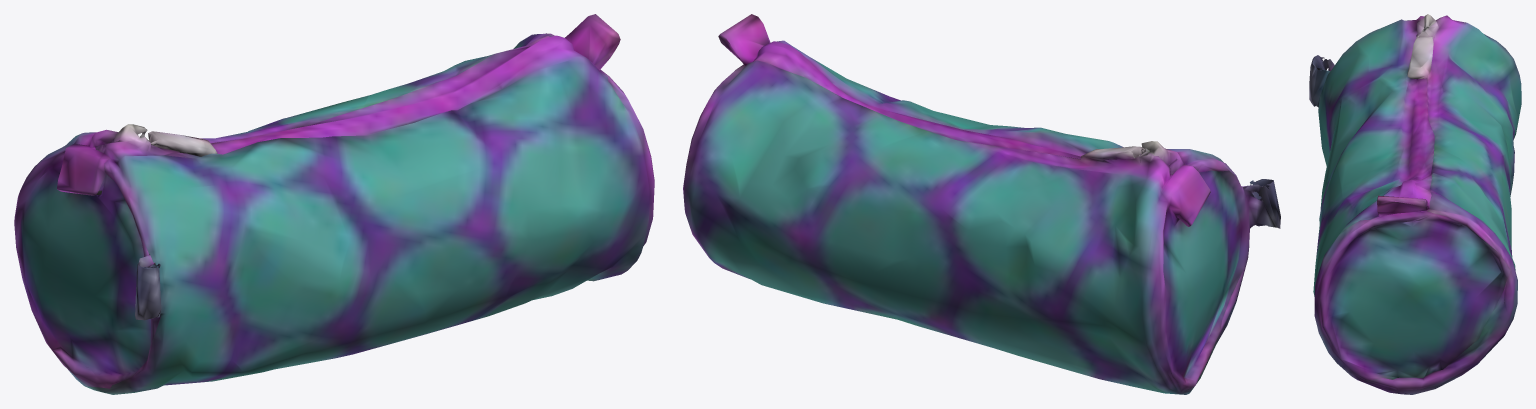
The model's file is Big_Dot_Aqua_Pencil_Case-medium.glb.
3 renders of one model, left to right at view 1: azimuth 30°, elevation 25°; view 2: azimuth 150°, elevation 25°; view 3: azimuth 270°, elevation 25°, orthographic. The views are drawn at different scales.
Visible parts, largest first — view 1: Big_Dot_Aqua_Pencil_Case; view 2: Big_Dot_Aqua_Pencil_Case; view 3: Big_Dot_Aqua_Pencil_Case.
Part boxes in pixels (box(x1,y1,x2,y2)): Big_Dot_Aqua_Pencil_Case: box(14, 14, 654, 394); Big_Dot_Aqua_Pencil_Case: box(683, 14, 1280, 394); Big_Dot_Aqua_Pencil_Case: box(1309, 14, 1521, 394).
Size of the model in its own units: 0.2081 by 0.096 by 0.0881.
1 material, 1 textured.
